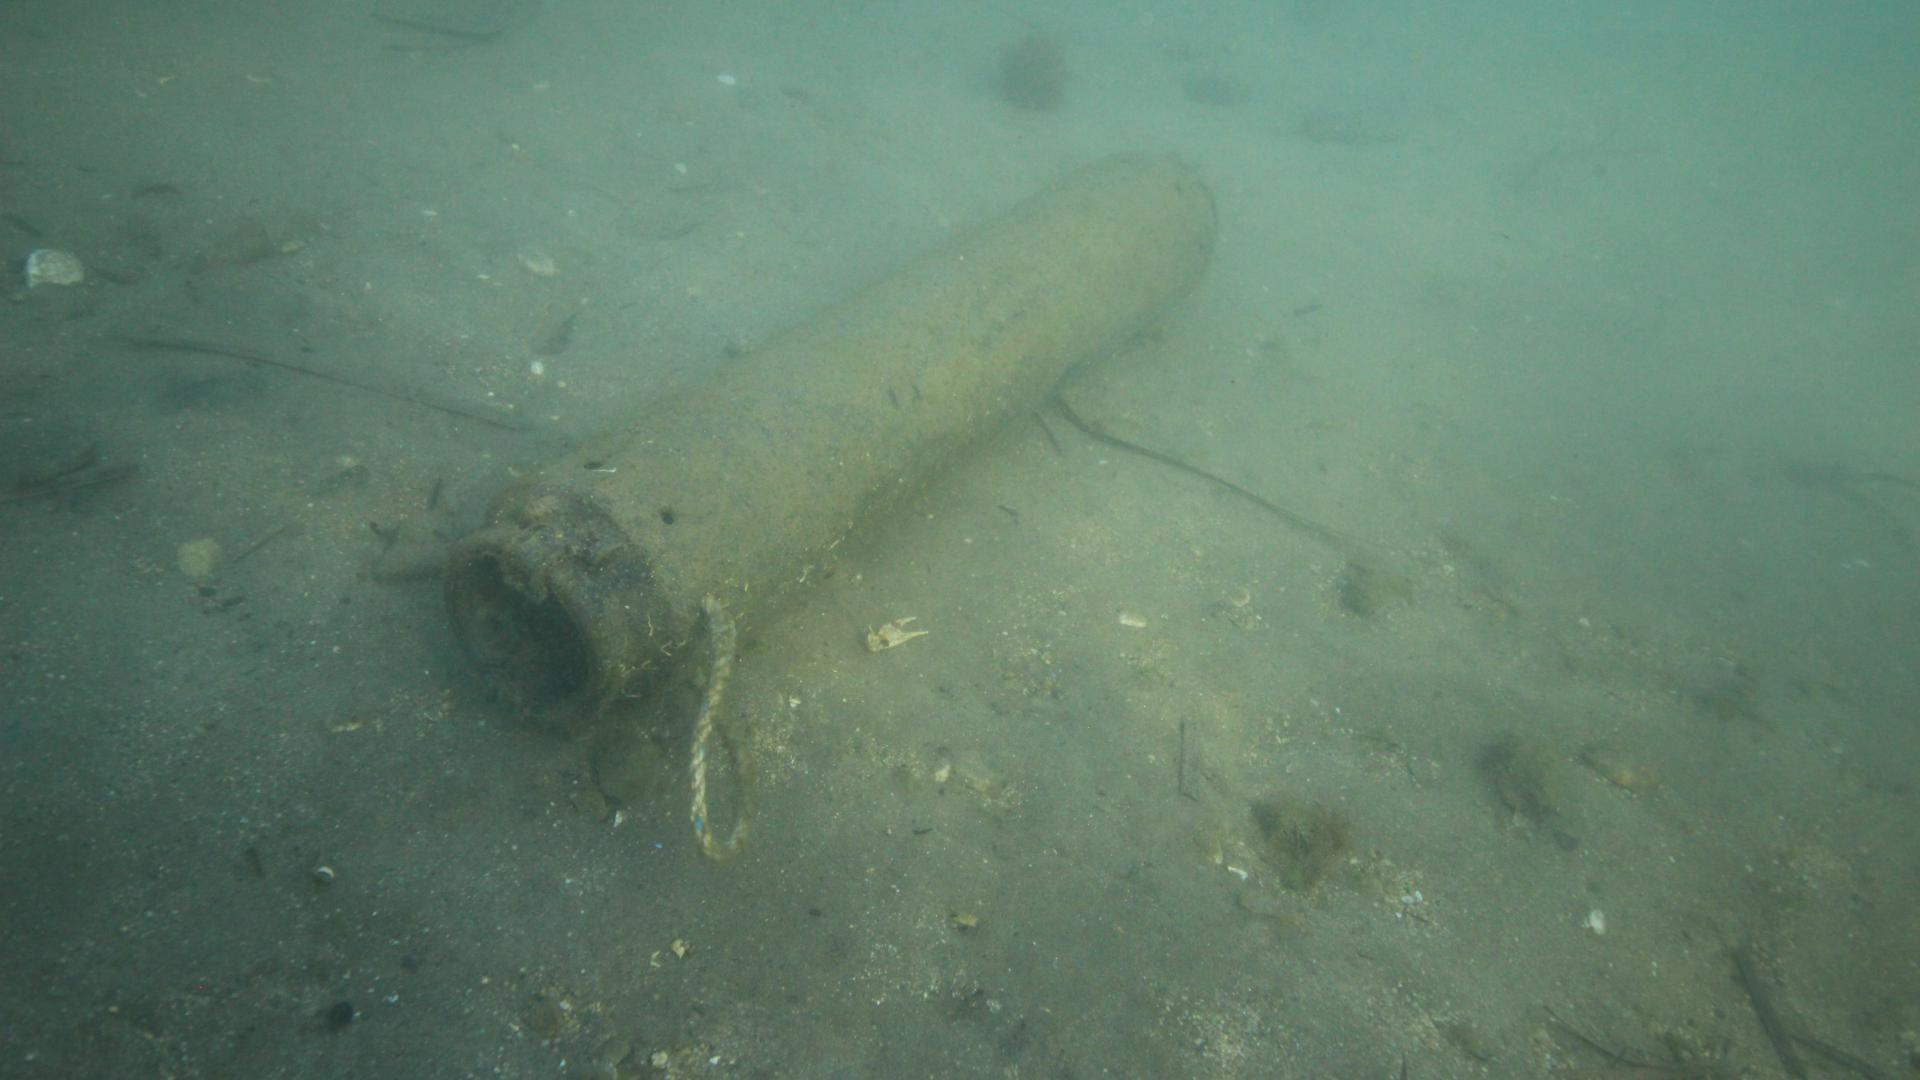eel fish trap: (436, 145, 1221, 731)
rope: (686, 597, 756, 862)
